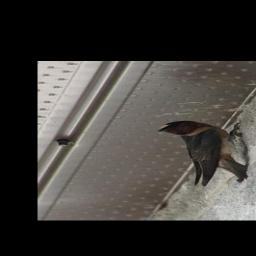Swallow: (158, 120, 252, 186)
